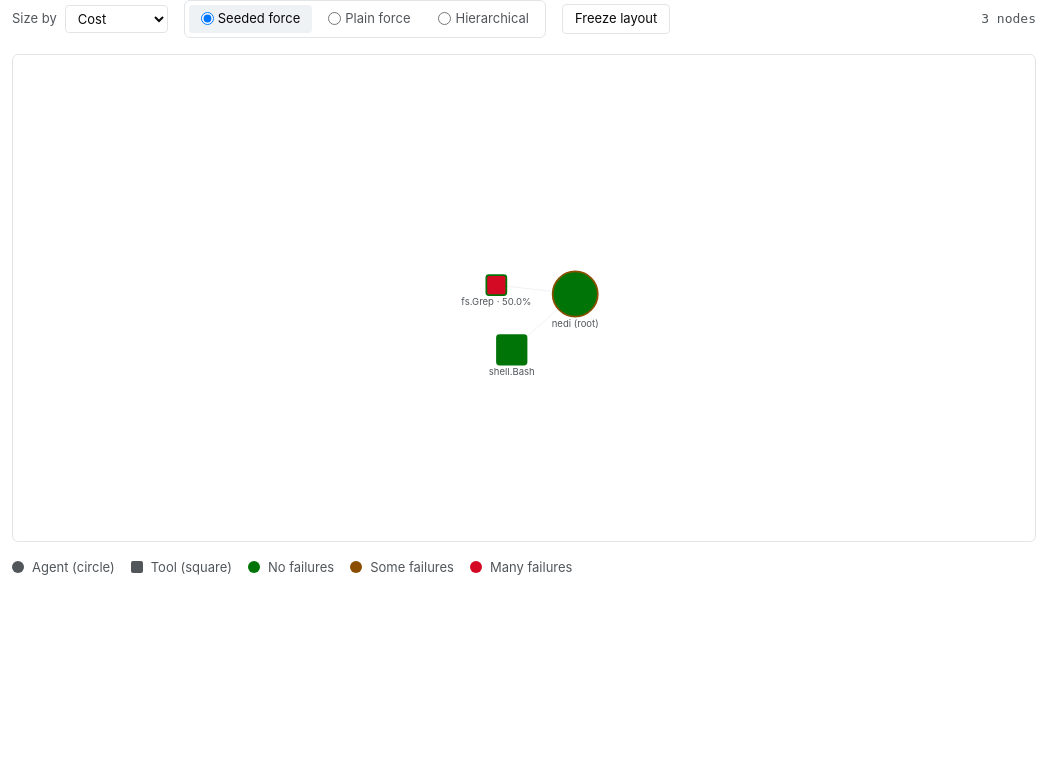
Test: TopologyTab › switches the layout mode via the toggle
Click the radio button labelled "Hierarchical" at x=445, y=19, box [438,12,452,25]
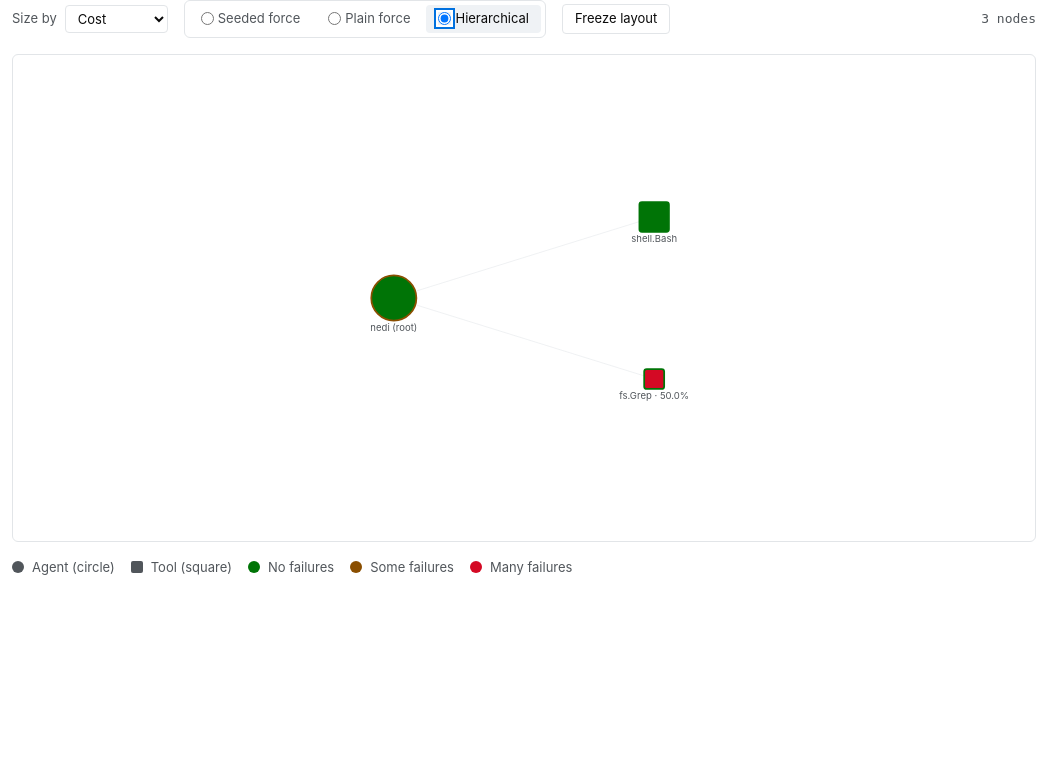
Expected: the radio button labelled "Hierarchical" is checked, [438,12,452,25]
Expected: the radio button labelled "Seeded force" is not checked, [201,12,214,25]
